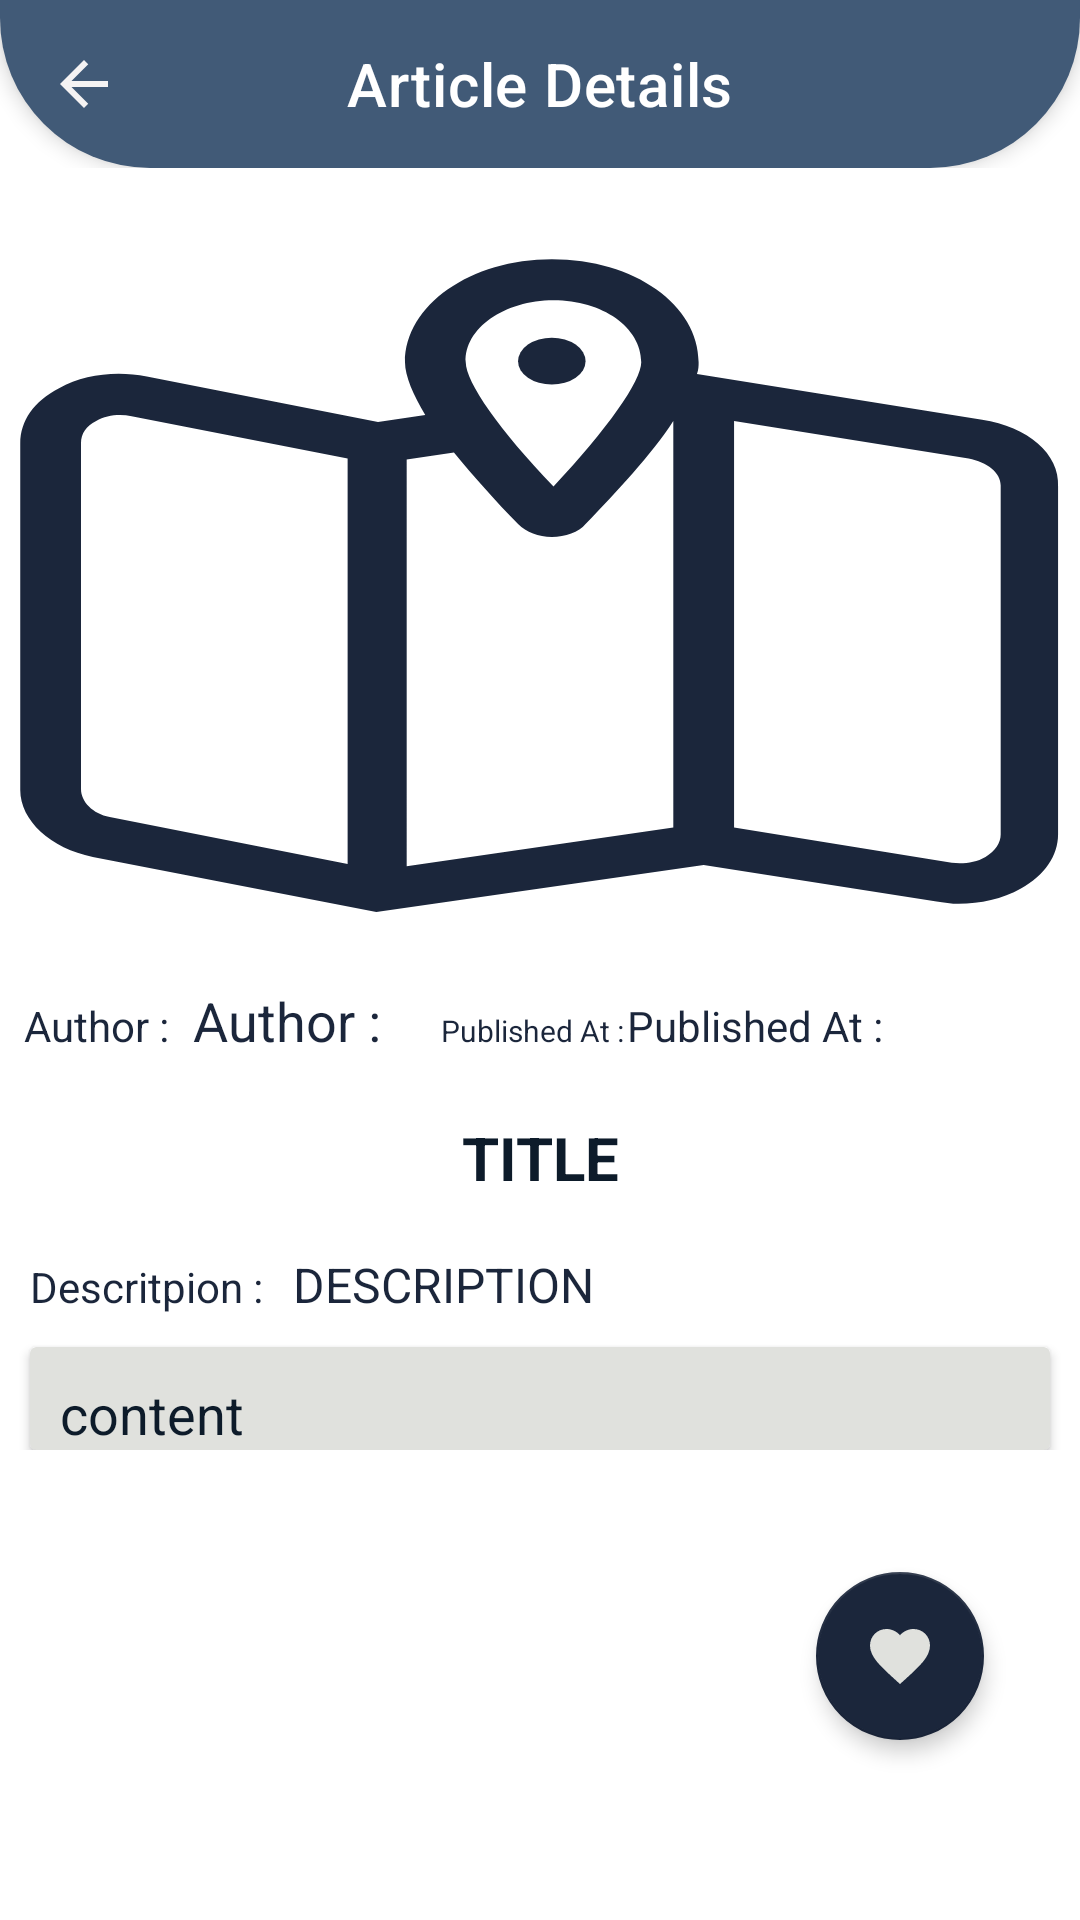

Screen size 1080w x 1920h. Icon name, then its box in pixels as (x1, y1, x2, y2):
favorite: (816, 1572, 984, 1740)
